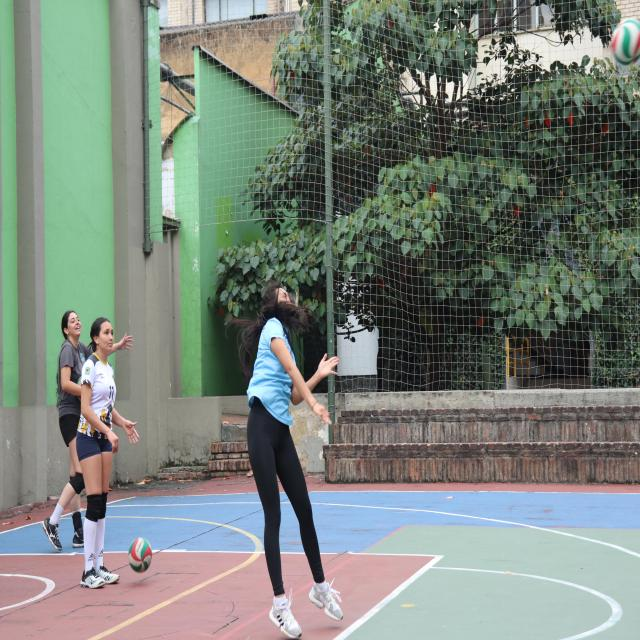volleyball: (611, 17, 640, 64), (128, 537, 154, 573)
